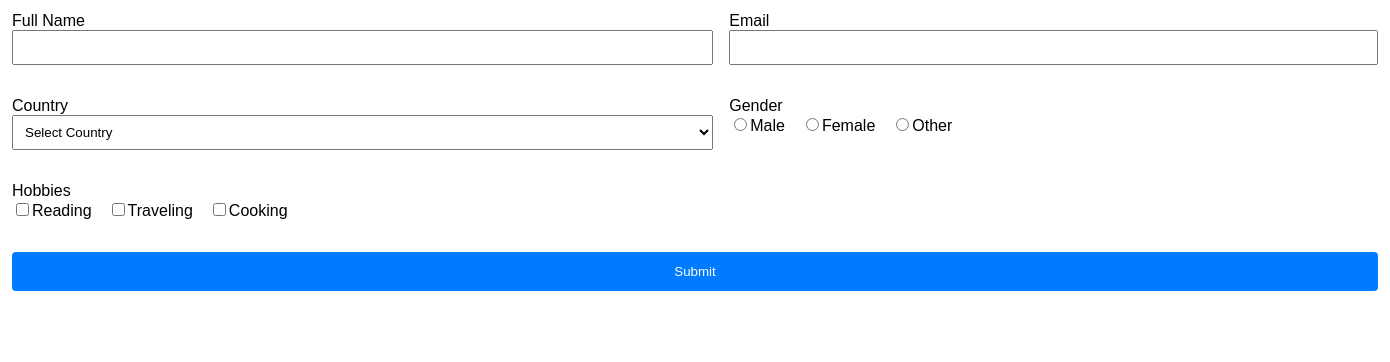
Test: DynamicForm › displays validation errors for required fields
What coordinates should you click on to do the following:
click the button "Submit"
I would click on:
 (695, 272)
Its box is x1=12 y1=252 x2=1378 y2=291.
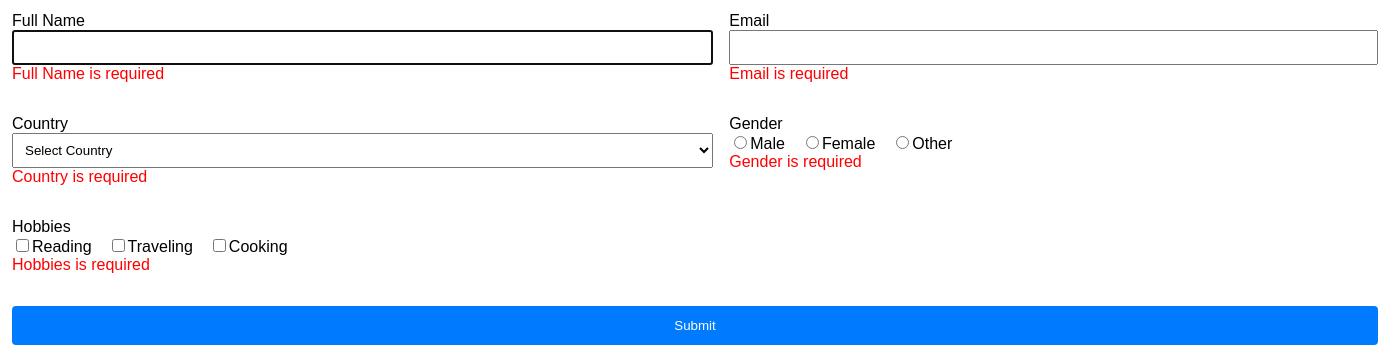
Check: the text "Full Name is required" is shown, box x1=12 y1=65 x2=164 y2=82
Check: the text "Email is required" is shown, box x1=729 y1=65 x2=848 y2=82
Check: the text "Country is required" is shown, box x1=12 y1=168 x2=147 y2=185
